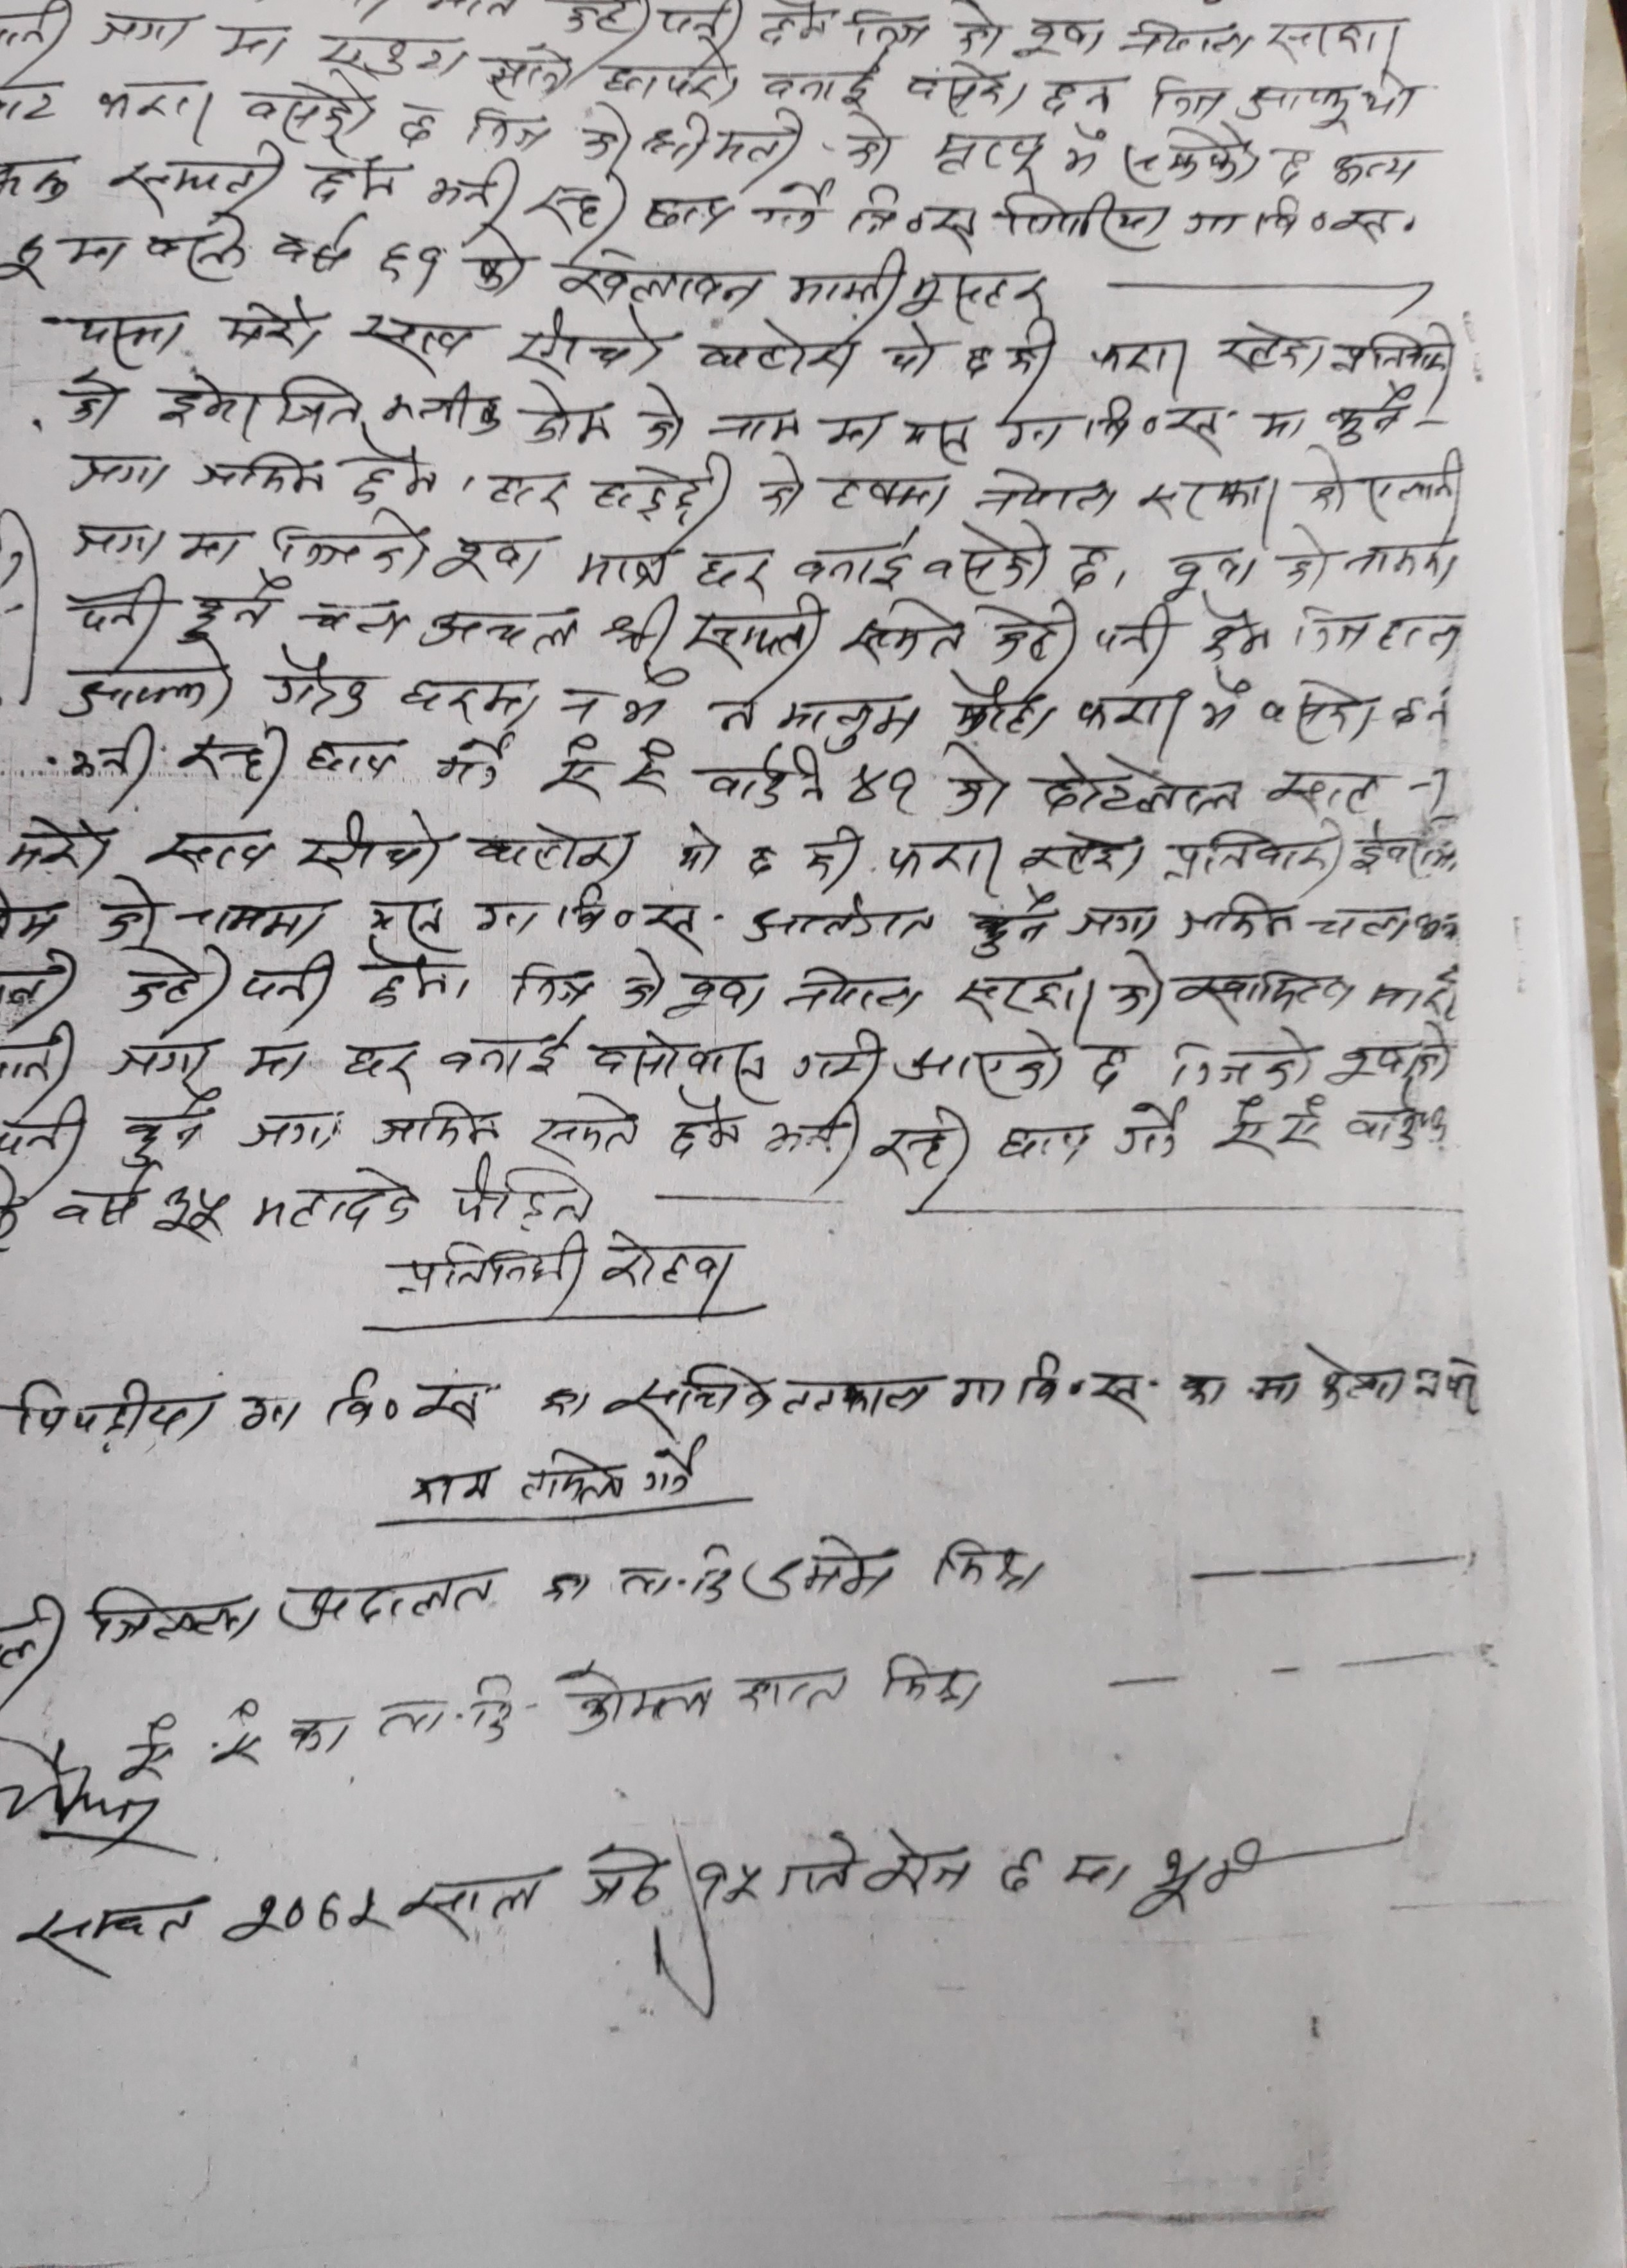text: (997, 377, 1308, 458), (615, 1354, 931, 1433), (944, 1349, 1305, 1417), (239, 1359, 486, 1442), (460, 875, 724, 951), (1034, 745, 1255, 826), (14, 1891, 202, 1986), (387, 1229, 590, 1312), (949, 951, 1167, 1027), (9, 1372, 225, 1446), (283, 1564, 502, 1634), (58, 641, 239, 722), (104, 136, 292, 211), (556, 247, 768, 313), (153, 370, 370, 435), (1307, 1347, 1483, 1425), (741, 1527, 902, 1611), (266, 505, 428, 588), (581, 1025, 773, 1094), (1298, 447, 1477, 519), (1284, 599, 1474, 666), (1162, 824, 1347, 893), (85, 1578, 262, 1648), (247, 1164, 419, 1236), (615, 946, 771, 1025), (553, 1661, 715, 1736), (991, 187, 1167, 255), (643, 102, 810, 174), (296, 806, 447, 886), (593, 1222, 741, 1303), (893, 1030, 1067, 1099), (690, 319, 859, 389), (681, 599, 836, 674), (445, 1153, 597, 1231), (590, 446, 738, 525), (396, 1865, 546, 1942), (467, 819, 644, 884), (541, 727, 683, 808), (1178, 194, 1402, 245), (505, 308, 662, 379), (1231, 74, 1426, 130), (218, 1886, 396, 1948), (1176, 963, 1352, 1025), (238, 70, 386, 143), (412, 595, 579, 659), (595, 35, 745, 106), (967, 458, 1123, 525), (1167, 1025, 1317, 1094), (784, 239, 907, 322), (877, 1101, 977, 1201), (116, 942, 236, 1025), (792, 519, 923, 595), (861, 1824, 975, 1909), (1132, 470, 1284, 534), (1120, 123, 1263, 190), (843, 595, 968, 671), (62, 717, 164, 808), (615, 1535, 733, 1615), (1007, 821, 1150, 886), (773, 958, 931, 1016), (923, 525, 1053, 595), (67, 569, 171, 657), (747, 896, 939, 944), (840, 183, 979, 248), (380, 370, 509, 440), (169, 896, 340, 949), (143, 206, 254, 287), (347, 306, 484, 372), (1210, 1092, 1333, 1164), (902, 55, 1027, 125), (173, 718, 289, 794), (0, 808, 116, 884), (114, 1083, 218, 1167), (431, 530, 567, 593), (433, 1016, 569, 1079), (389, 671, 541, 727), (1261, 674, 1379, 747), (1331, 319, 1465, 382), (928, 1530, 1051, 1599), (975, 593, 1081, 671), (697, 747, 826, 810), (354, 940, 475, 1007), (757, 42, 877, 109), (523, 1097, 643, 1164), (264, 648, 375, 720), (954, 887, 1060, 963), (239, 944, 338, 1025), (944, 669, 1056, 740), (761, 1101, 865, 1176), (174, 578, 285, 648), (886, 831, 1005, 896), (187, 447, 329, 502), (1342, 532, 1470, 592), (817, 465, 958, 519), (518, 1442, 632, 1509), (514, 375, 620, 447), (217, 292, 328, 359), (1069, 689, 1189, 750), (777, 697, 924, 747), (93, 79, 218, 137), (1173, 889, 1298, 947), (1263, 764, 1391, 821), (1085, 333, 1196, 398), (1215, 315, 1328, 379), (655, 1083, 743, 1164), (373, 1099, 512, 1150), (928, 127, 1039, 190), (345, 440, 447, 509), (143, 824, 280, 875), (937, 736, 1014, 826), (1266, 14, 1407, 63), (1322, 379, 1416, 453), (268, 210, 368, 278), (303, 139, 398, 211), (292, 590, 410, 648), (313, 30, 463, 76), (530, 164, 627, 234), (1115, 12, 1252, 62), (456, 461, 572, 519), (1352, 824, 1465, 884), (583, 1838, 666, 1918), (1307, 896, 1419, 954), (877, 1652, 983, 1713), (740, 1661, 854, 1717), (46, 1166, 144, 1231), (1097, 600, 1180, 678), (67, 308, 180, 365), (1041, 70, 1123, 146), (791, 1021, 886, 1086), (1157, 542, 1257, 604), (949, 264, 1062, 319), (62, 444, 174, 498), (1349, 1090, 1451, 1150), (85, 2, 197, 55), (100, 1034, 217, 1085), (424, 153, 523, 213), (428, 733, 518, 798), (775, 1831, 856, 1902), (995, 1116, 1095, 1173), (706, 398, 812, 451), (572, 539, 671, 595), (600, 593, 678, 664), (460, 100, 553, 158), (63, 518, 169, 569), (1060, 893, 1162, 946), (634, 187, 738, 238), (477, 42, 567, 100), (750, 180, 835, 241), (1111, 1095, 1189, 1162), (842, 755, 923, 819), (507, 949, 595, 1007), (90, 873, 162, 944), (463, 220, 530, 296), (46, 368, 125, 431), (692, 1858, 773, 1919), (1326, 143, 1430, 190), (799, 821, 865, 896), (688, 544, 773, 600), (1025, 9, 1106, 67), (239, 1108, 342, 1153), (370, 236, 445, 298), (902, 407, 981, 465), (886, 312, 946, 387), (153, 1185, 231, 1243), (1196, 611, 1275, 667), (342, 1035, 421, 1092), (636, 1435, 706, 1499), (1060, 1840, 1139, 1896), (632, 377, 692, 451), (1150, 67, 1231, 122), (357, 895, 458, 939), (1277, 519, 1335, 595), (815, 398, 889, 456), (752, 451, 810, 523), (998, 319, 1058, 387), (301, 736, 394, 780), (403, 1469, 500, 1511), (171, 519, 254, 569), (572, 99, 632, 164), (1391, 680, 1454, 740), (831, 111, 889, 176), (671, 821, 729, 886), (953, 0, 1016, 58), (62, 222, 127, 278), (213, 18, 292, 63), (238, 1042, 313, 1088), (1197, 669, 1250, 733), (993, 1837, 1048, 1896), (396, 100, 453, 155), (1058, 537, 1113, 593), (555, 680, 609, 724), (1270, 143, 1317, 192), (701, 697, 757, 738), (1058, 139, 1106, 187), (616, 689, 666, 734), (1086, 1039, 1127, 1094), (741, 842, 782, 882), (961, 340, 991, 384)
